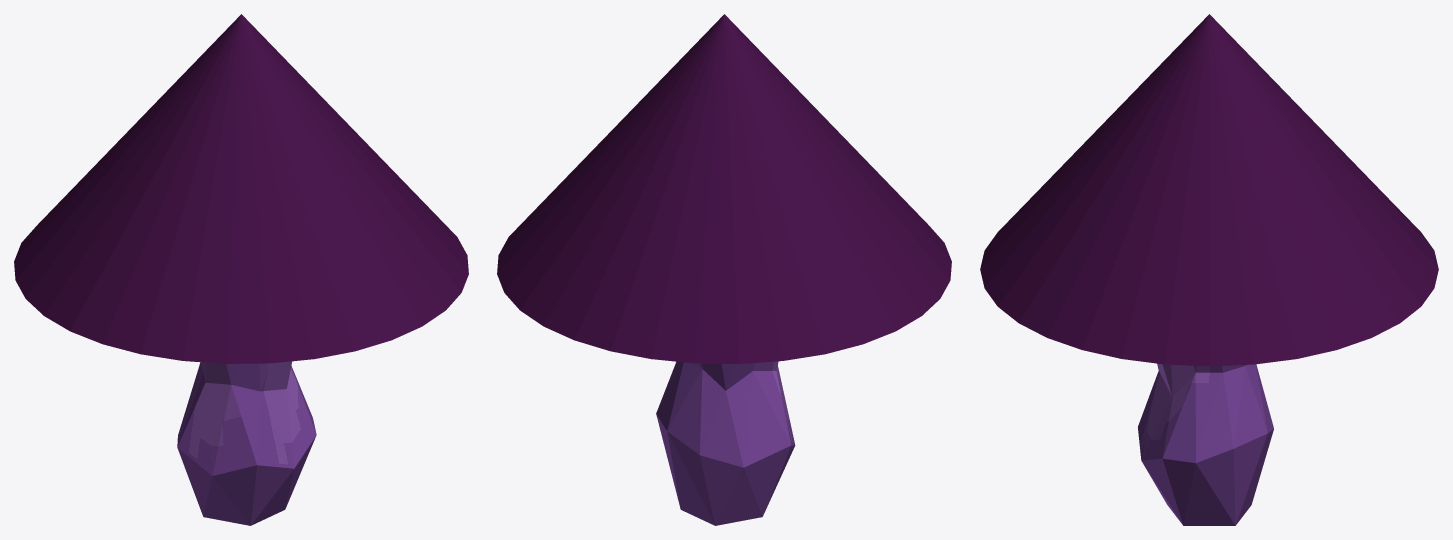
The model's file is tree2.fbx.
3 views of the same model, side by side, from view 1: azimuth 30°, elevation 25°; view 2: azimuth 150°, elevation 25°; view 3: azimuth 270°, elevation 25° (orthographic).
Visible parts, largest first — view 1: Cone; view 2: Cone; view 3: Cone.
Part boxes in pixels (x1,y1,x2,y2): Cone: [14, 14, 468, 525]; Cone: [497, 14, 951, 525]; Cone: [980, 14, 1438, 525].
Bounding box in the file's own units: 1905 × 2277 × 1905.
